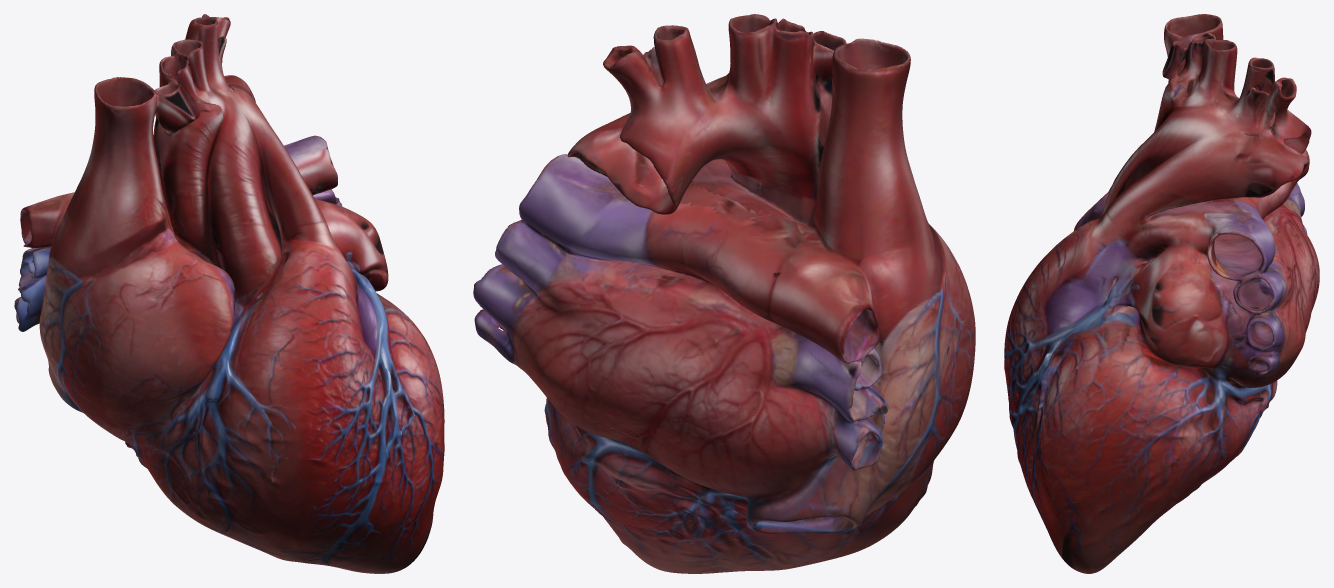
Rendered from 3d_model_of_a_human_heart.glb.
3 views of the same model, side by side, from view 1: azimuth 30°, elevation 25°; view 2: azimuth 150°, elevation 25°; view 3: azimuth 270°, elevation 25° (orthographic). The views are drawn at different scales.
Visible parts, largest first — view 1: Mesh1_Mesh1.043; view 2: Mesh1_Mesh1.043; view 3: Mesh1_Mesh1.043.
Boxes of the visible parts, x1,y1,x2,y2 form: Mesh1_Mesh1.043: [14, 14, 444, 573]; Mesh1_Mesh1.043: [473, 14, 975, 573]; Mesh1_Mesh1.043: [1004, 14, 1319, 573].
Bounding box in the file's own units: 1.34 × 2 × 1.22.
1 material, 1 textured.
